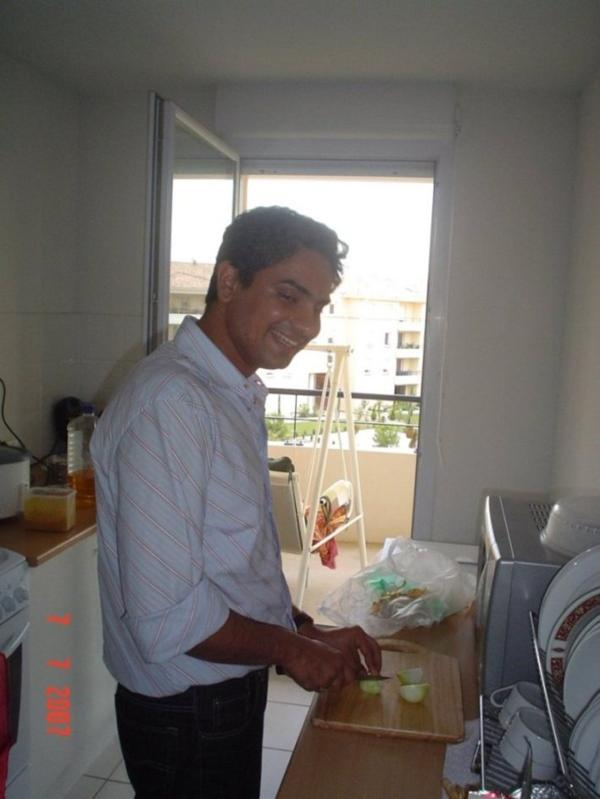person: (88, 205, 384, 795)
